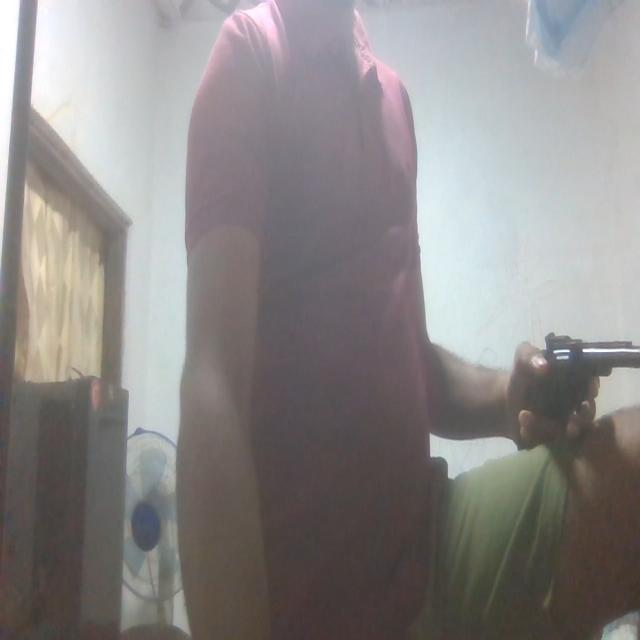Gun_Holder: (494, 310, 640, 462)
Person: (178, 0, 640, 640)
